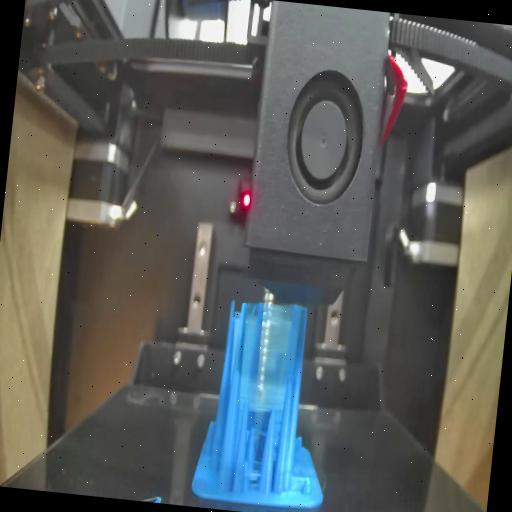stringing: (238, 298, 300, 412), (244, 426, 266, 493), (285, 472, 312, 496)
